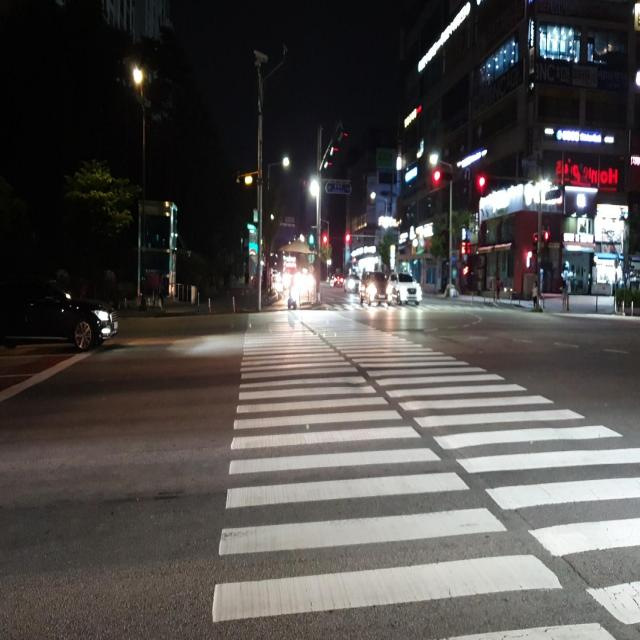횡단보도: (207, 301, 640, 640)
